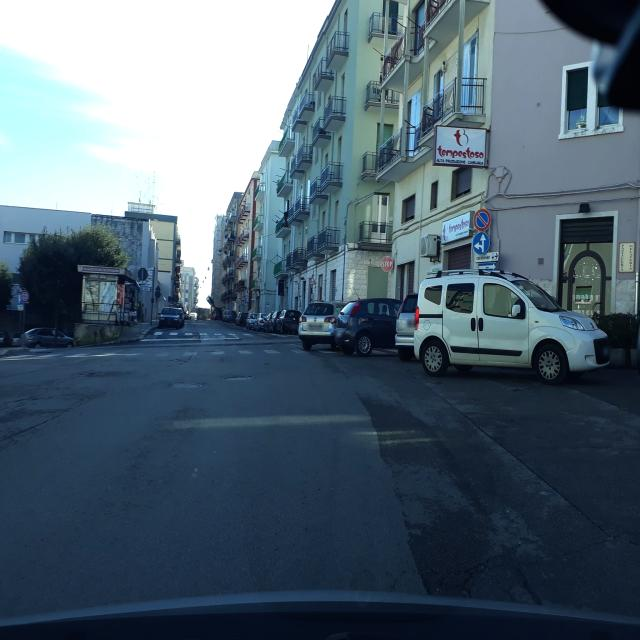car: (410, 267, 612, 385), (333, 297, 403, 357), (298, 300, 346, 350), (394, 291, 420, 361), (21, 326, 76, 349), (276, 309, 302, 335), (158, 307, 181, 330), (265, 310, 281, 332), (171, 306, 185, 326), (254, 313, 269, 331), (0, 330, 13, 349), (246, 312, 260, 329), (236, 312, 249, 326), (222, 310, 235, 322)
